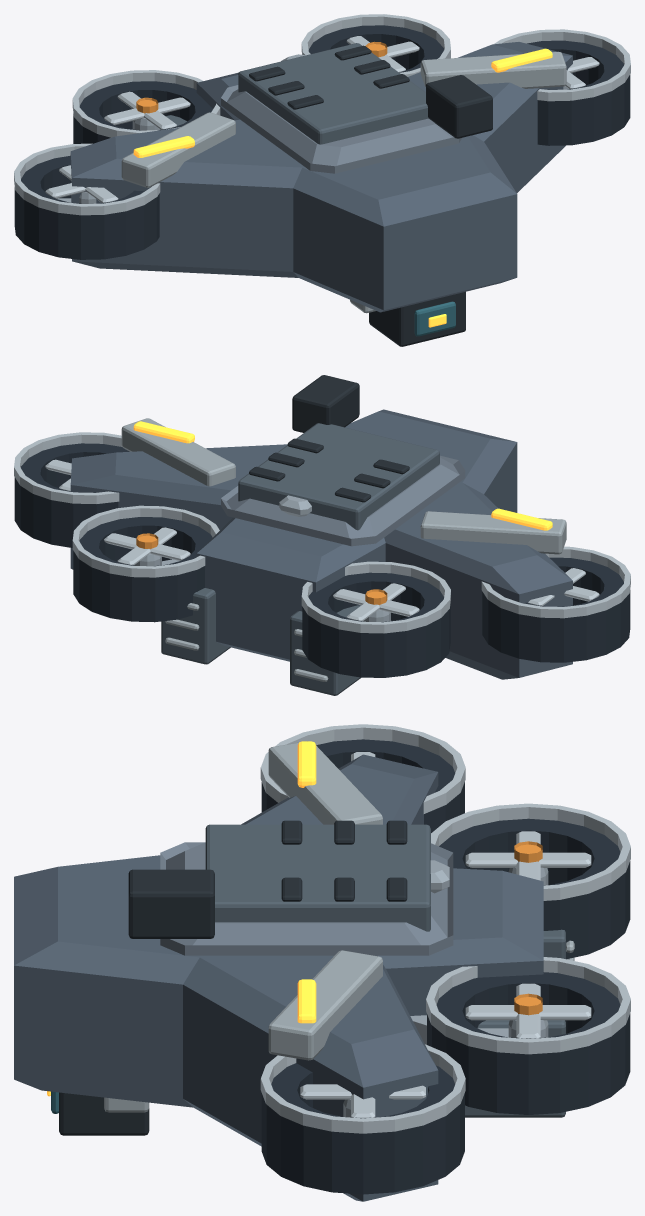
File: SF_FlankerDrone_GV.fbx
The picture shows the model from 3 angles, top to bottom: view 1: azimuth 30°, elevation 25°; view 2: azimuth 150°, elevation 25°; view 3: azimuth 270°, elevation 25°; orthographic projection. The views are drawn at different scales.
Parts seen in each view (by area): view 1: FlankerChassis, VU_FlankerPrecisionAssembly, Rotor2, Rotor0, Rotor3, Rotor1; view 2: FlankerChassis, VU_FlankerPrecisionAssembly, Rotor3, Rotor2, Rotor0; view 3: FlankerChassis, VU_FlankerPrecisionAssembly, Rotor3, Rotor2, Rotor1.
Part boxes in pixels (box(x1,y1,x2,y2)): FlankerChassis: box(14, 14, 630, 312); VU_FlankerPrecisionAssembly: box(121, 43, 566, 346); Rotor2: box(104, 91, 190, 130); Rotor0: box(45, 165, 118, 203); Rotor3: box(346, 36, 419, 72); Rotor1: box(563, 57, 599, 89); FlankerChassis: box(14, 409, 630, 679); VU_FlankerPrecisionAssembly: box(121, 375, 566, 695); Rotor3: box(104, 527, 190, 566); Rotor2: box(333, 583, 419, 622); Rotor0: box(528, 568, 599, 605); FlankerChassis: box(14, 724, 630, 1201); VU_FlankerPrecisionAssembly: box(47, 741, 574, 1135); Rotor3: box(465, 983, 591, 1038); Rotor2: box(465, 831, 591, 885); Rotor1: box(300, 1084, 425, 1118).
Bounding box in the file's own units: 251 × 82 × 164.
